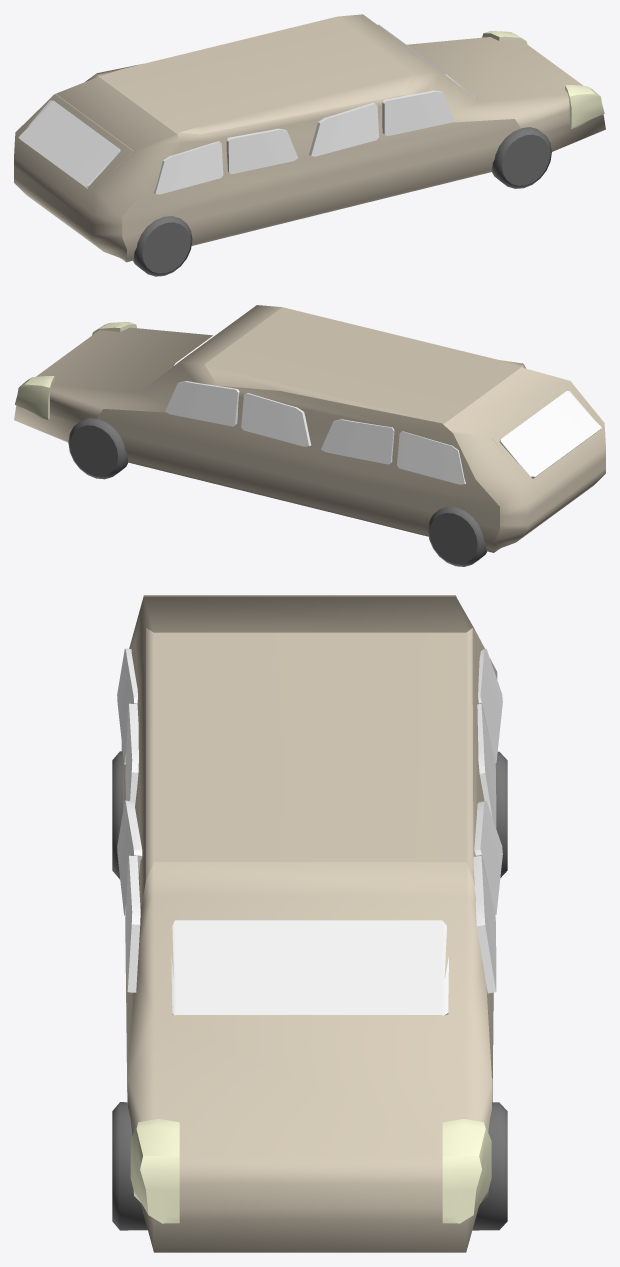
Rendered from CarroVeige.fbx.
The picture shows the model from 3 angles, top to bottom: view 1: azimuth 30°, elevation 25°; view 2: azimuth 150°, elevation 25°; view 3: azimuth 270°, elevation 25°; orthographic projection. The views are drawn at different scales.
Parts seen in each view (by area): view 1: pCube1, pCube10, pCylinder1, pCylinder2, pCube13, pCube8, pasted__pCube8, pasted__pCube13, pCube9; view 2: pCube1, pCube10, pCylinder3, pCylinder4, pasted__pCube12, pCube14, pasted__pasted__pCube12, pasted__pCube14, pCube9; view 3: pCube1, pCube6, pCube9, pCylinder1, pCylinder3, pasted__pCube12, pCube14, pCube8, pasted__pCube14, pCube13, pasted__pasted__pCube12, pasted__pCube13 (+3 smaller).
Part boxes in pixels (box(x1,y1,x2,y2)): pCube1: box(14, 14, 605, 262); pCube10: box(18, 100, 120, 188); pCylinder1: box(492, 127, 551, 188); pCylinder2: box(133, 216, 192, 276); pCube13: box(309, 102, 378, 156); pCube8: box(382, 90, 453, 136); pasted__pCube8: box(226, 128, 297, 174); pasted__pCube13: box(154, 141, 223, 194); pCube9: box(482, 31, 604, 128); pCube1: box(14, 305, 605, 552); pCube10: box(499, 391, 601, 478); pCylinder3: box(68, 418, 127, 479); pCylinder4: box(428, 506, 486, 566); pasted__pCube12: box(165, 381, 239, 426); pCube14: box(241, 393, 311, 446); pasted__pasted__pCube12: box(321, 419, 394, 464); pasted__pCube14: box(397, 431, 465, 484); pCube9: box(15, 322, 136, 419); pCube1: box(121, 595, 497, 1252); pCube6: box(171, 920, 448, 1015); pCube9: box(130, 1119, 491, 1223); pCylinder1: box(112, 1102, 147, 1230); pCylinder3: box(472, 1102, 507, 1230); pasted__pCube12: box(473, 856, 496, 993); pCube14: box(474, 800, 502, 915); pCube8: box(125, 855, 140, 992); pasted__pCube14: box(478, 648, 502, 763); pCube13: box(117, 800, 142, 916); pasted__pasted__pCube12: box(477, 704, 496, 828); pasted__pCube13: box(117, 648, 137, 764).
Bounding box in the file's own units: 33.37 × 8.24 × 11.09.
